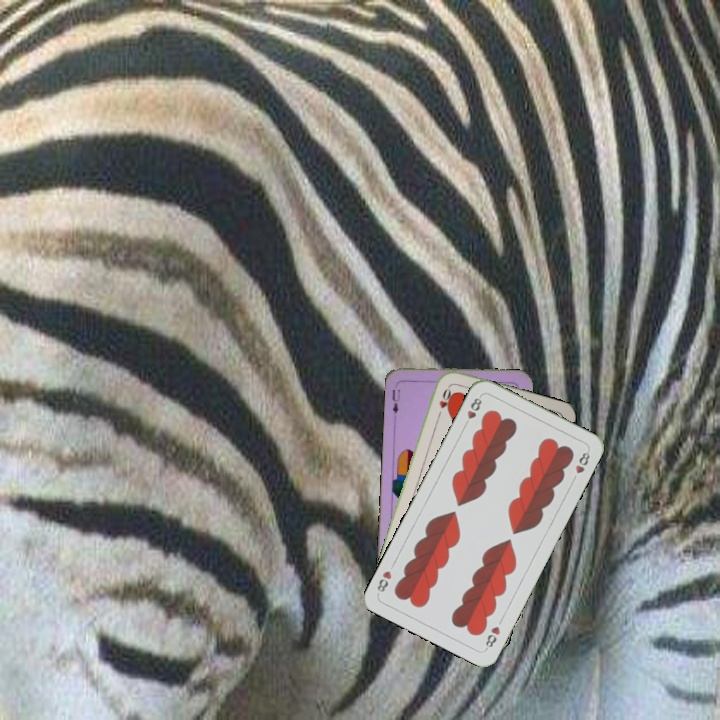EU: (388, 385, 403, 416)
H8: (460, 392, 484, 429), (481, 622, 503, 652)
HO: (433, 382, 453, 421)
